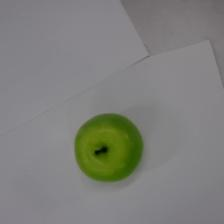green: (75, 114, 143, 182)
